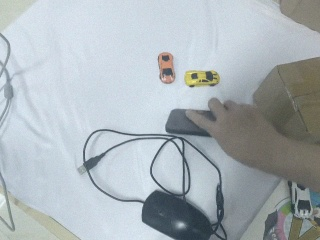box: (250, 50, 320, 148), (278, 1, 320, 43)
mouse: (140, 189, 214, 240)
phone: (165, 108, 215, 136)
toy_car: (284, 177, 316, 220), (185, 69, 220, 88), (157, 52, 176, 84)
